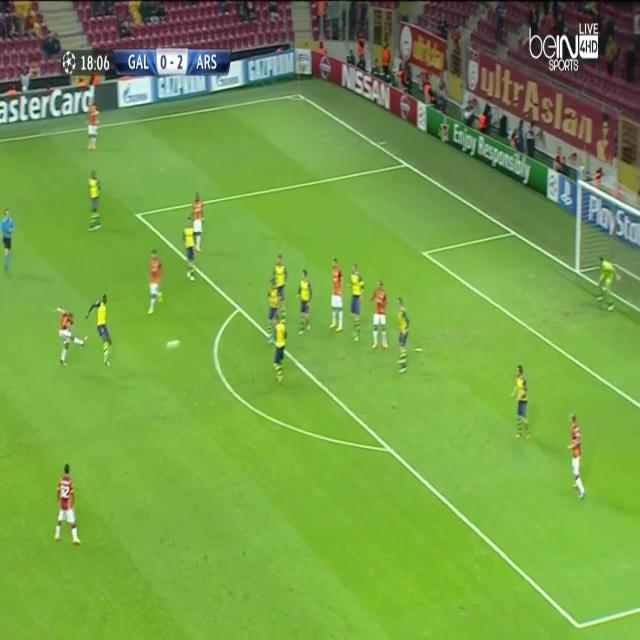Ball: (163, 333, 182, 357)
Goalkeeper: (596, 254, 623, 317)
Player: (50, 460, 82, 546), (564, 411, 588, 505), (86, 293, 114, 372), (56, 305, 88, 366), (509, 365, 532, 447), (346, 261, 367, 345), (369, 276, 390, 355), (144, 246, 166, 318), (395, 295, 413, 381), (294, 268, 314, 344), (271, 248, 289, 321), (329, 256, 344, 343), (272, 312, 288, 390), (86, 166, 103, 238), (181, 213, 197, 283), (85, 92, 102, 156), (188, 192, 206, 252), (267, 276, 281, 344)
Referee: (0, 206, 16, 276)
